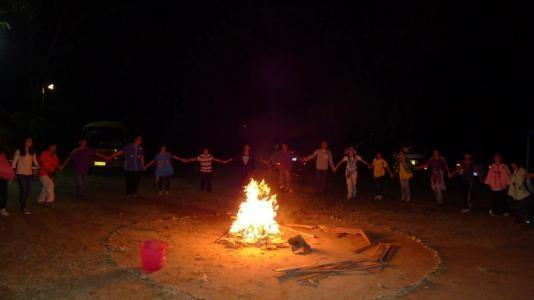fire: (187, 153, 312, 253)
